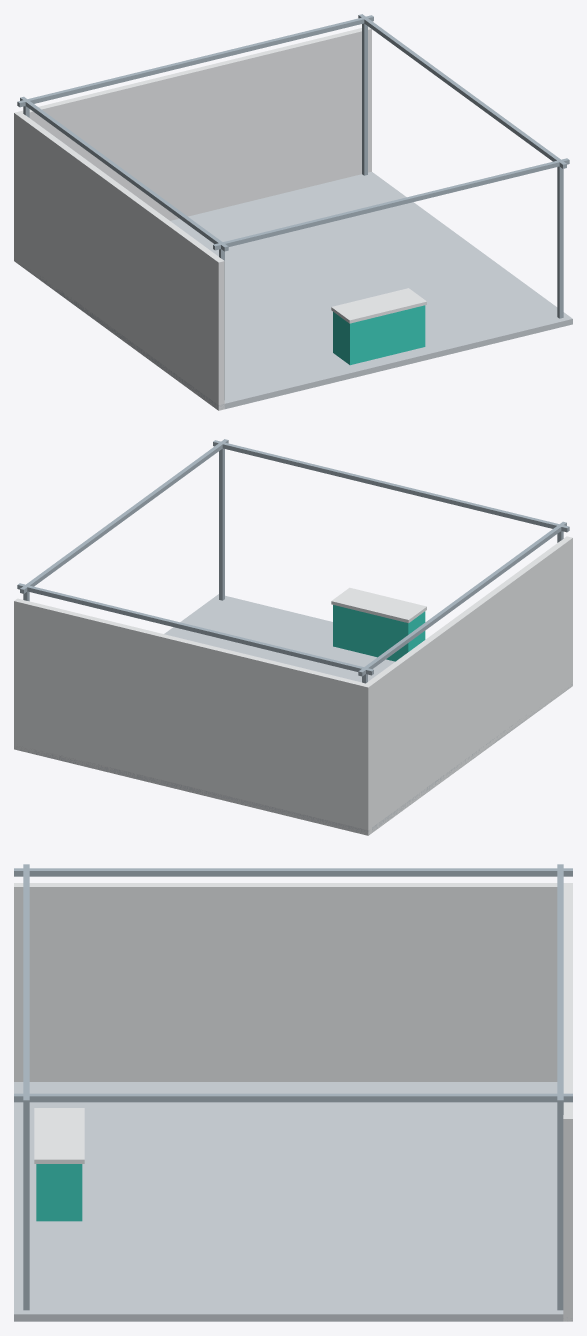
The picture shows the model from 3 angles, top to bottom: view 1: azimuth 30°, elevation 25°; view 2: azimuth 150°, elevation 25°; view 3: azimuth 270°, elevation 25°; orthographic projection. The views are drawn at different scales.
Visible parts, largest first — view 1: Exhibition Booth Concept; view 2: Exhibition Booth Concept; view 3: Exhibition Booth Concept.
Part boxes in pixels (bbox=[...]): Exhibition Booth Concept: bbox=[14, 14, 572, 410]; Exhibition Booth Concept: bbox=[14, 439, 572, 835]; Exhibition Booth Concept: bbox=[14, 864, 572, 1321].
Size of the model in its own units: 8 by 3.49 by 8.
